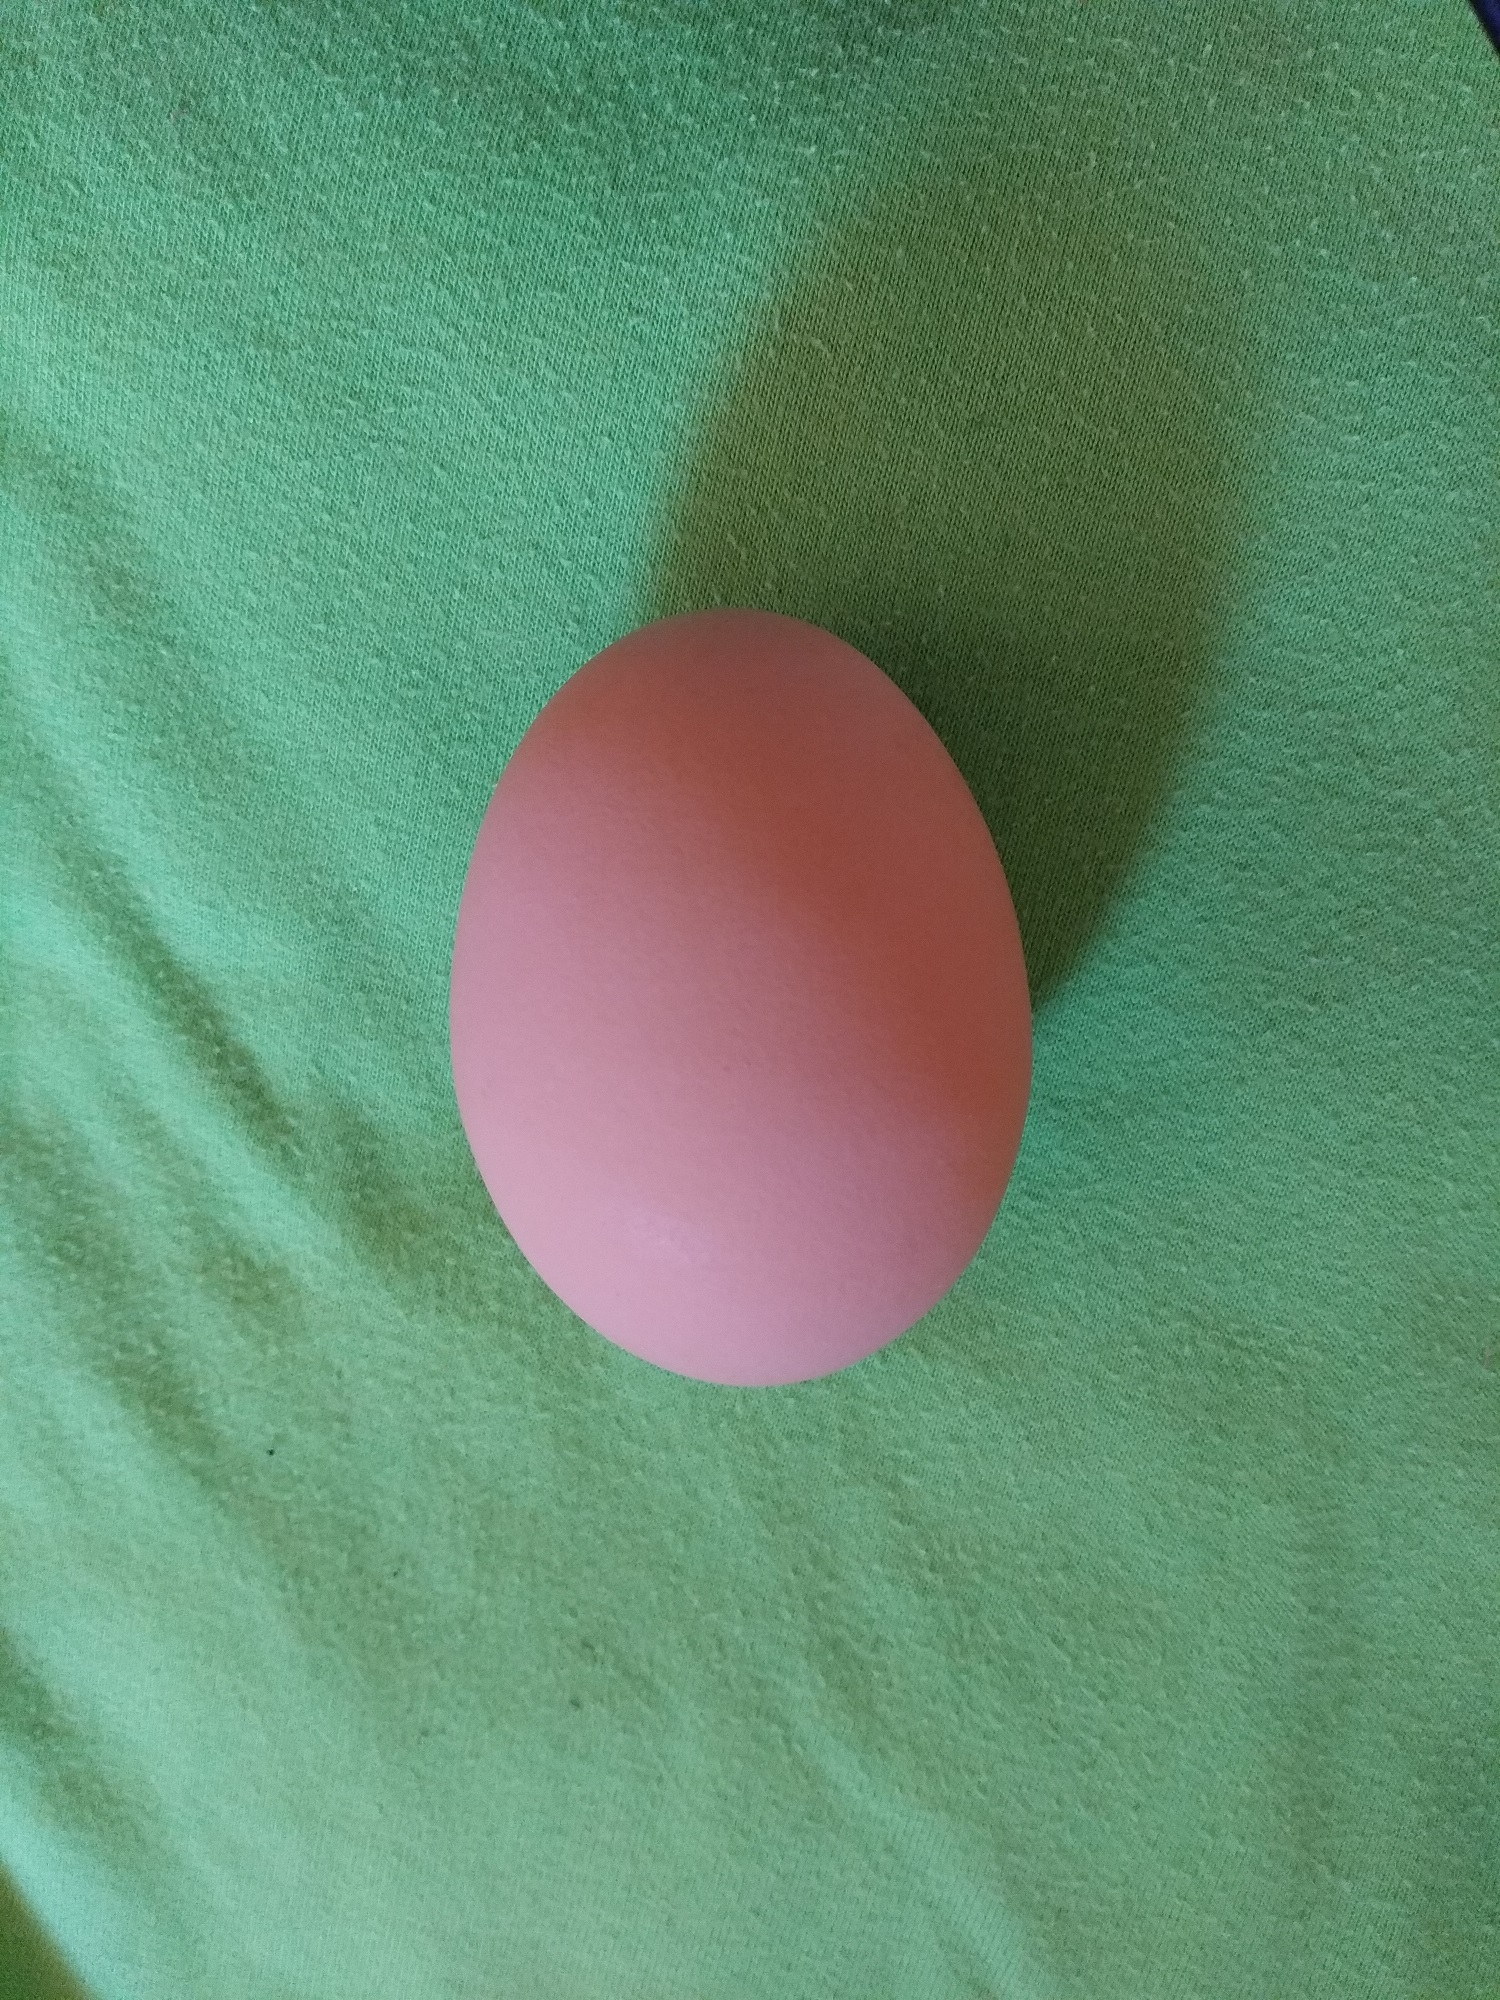Female: (440, 602, 1038, 1391)
